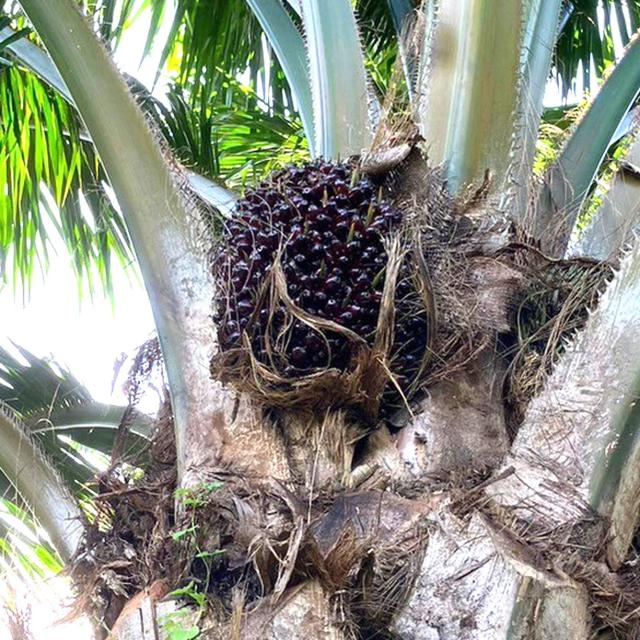ripe: (221, 157, 433, 407)
